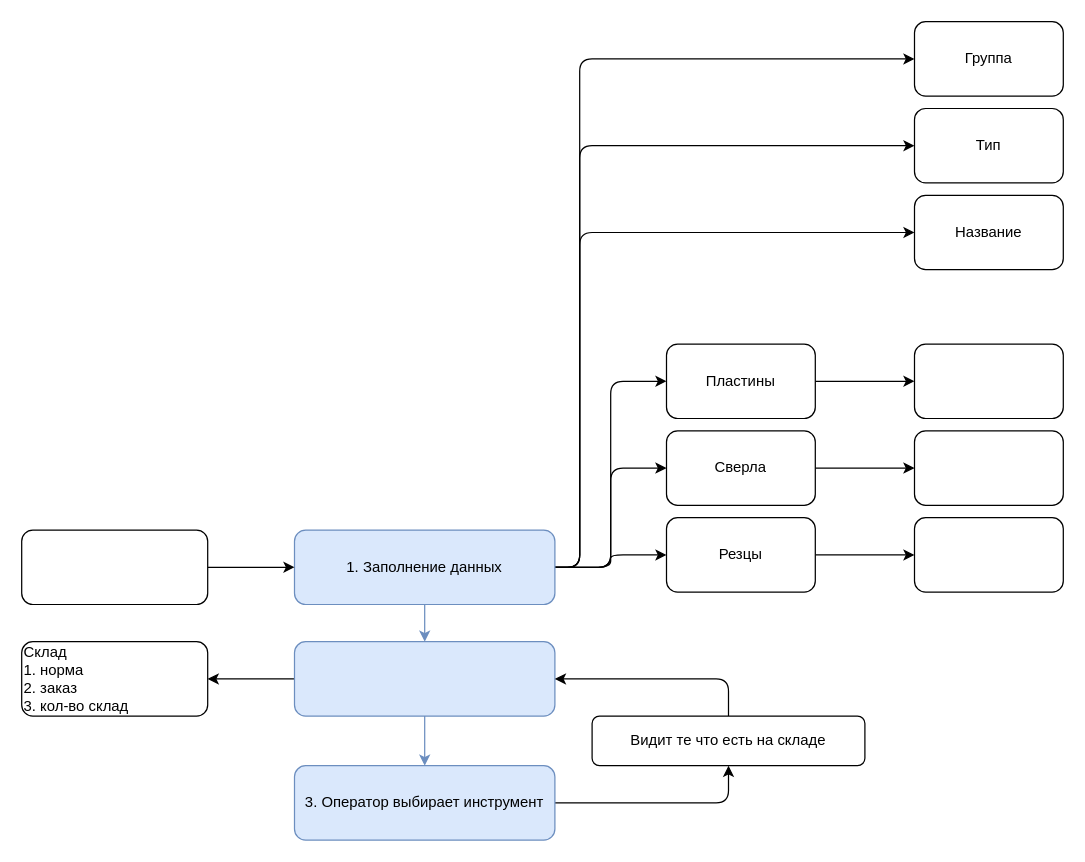
Some shapes in this 1085 by 862 pixel diagram are drawn without their labels. Each missing label, with the centre of its shape:
"1. Габариты 2. Диаметр" belongs at pixel 988 467.
"1. Радиус 2.Шаг" belongs at pixel 988 380.
"1.Вылет" belongs at pixel 988 554.
"2. Приход на склад" belongs at pixel 424 678.
"Интерфейс Хохлова" belongs at pixel 114 566.
